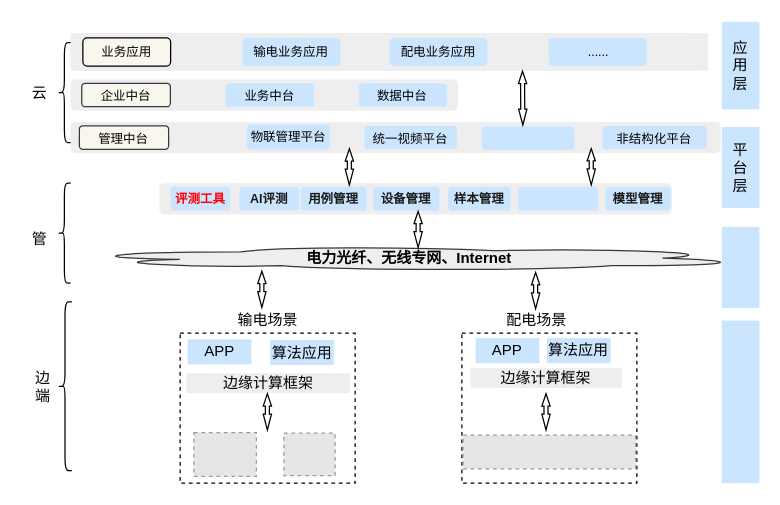
This 780x505 diagram has some shape labels left out. Grey dashed boxes stand in for pictures. The shapes that lost their labels are listed below. From the top down, each one's centre as x and y in pixels, then its label:
(x=527, y=137): 人工智能平台
(x=558, y=198): 业务场景管理
(x=740, y=267): 网 络 层
(x=740, y=401): 感 知 计 算 层
